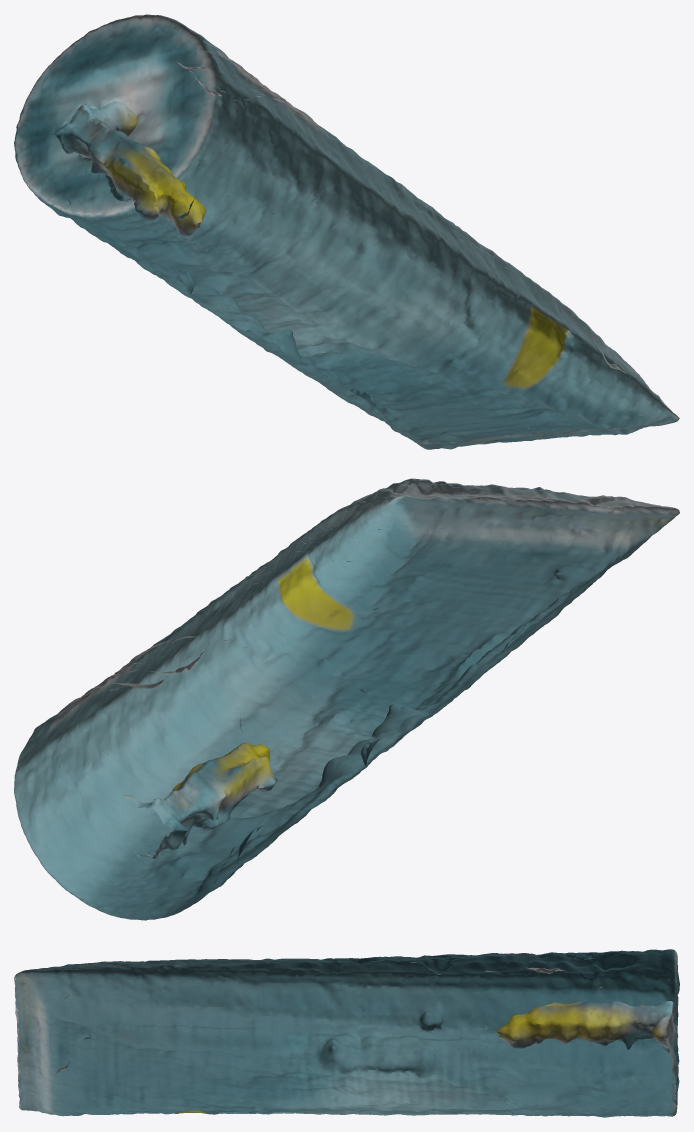
Rendered from oil.glb.
3 views of the same model, one above another, from view 1: azimuth 30°, elevation 25°; view 2: azimuth 150°, elevation 25°; view 3: azimuth 270°, elevation 25° (orthographic). The views are drawn at different scales.
Bounding box in the file's own units: 0.3609 × 0.2522 × 1.
